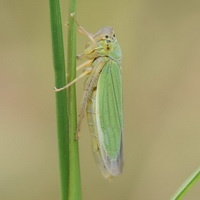insect: (56, 25, 122, 175)
